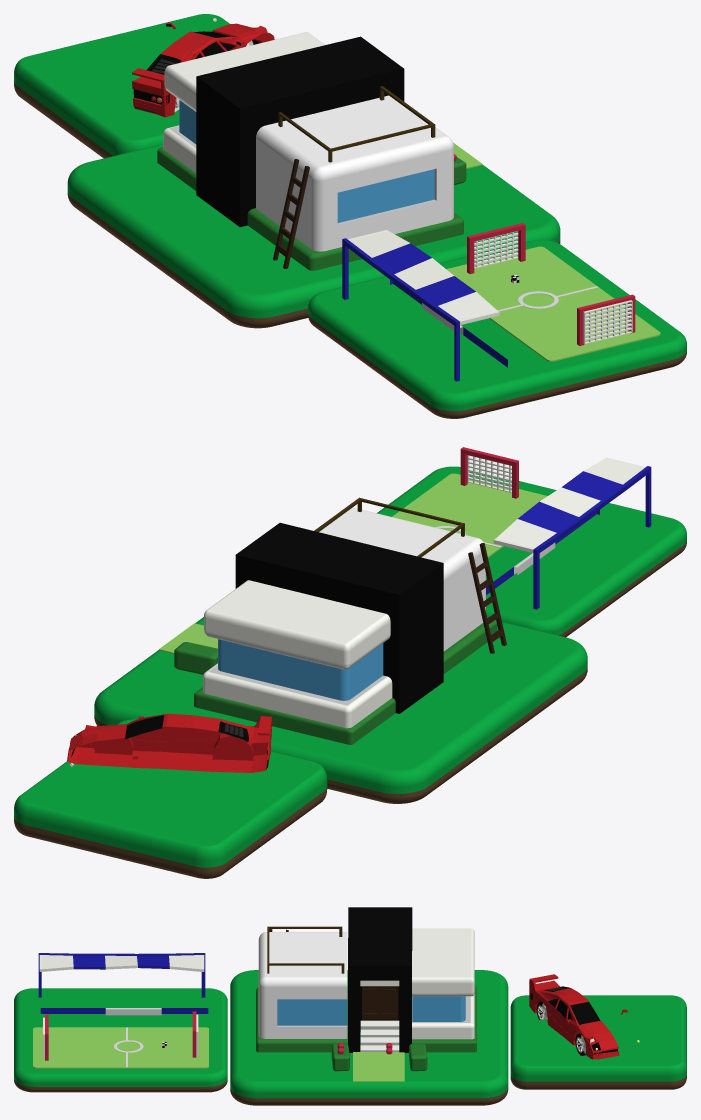
The model's file is islandAspan2.glb.
3 views of the same model, one above another, from view 1: azimuth 30°, elevation 25°; view 2: azimuth 150°, elevation 25°; view 3: azimuth 270°, elevation 25° (orthographic). The views are drawn at different scales.
Visible parts, largest first — view 1: Island.001, Island, Left2, Black main, Island.002, Football field.001, Tribuns.001, Right2, Car, Grassleft, Gates2.001, Gates.001 (+4 smaller); view 2: Island.001, Island.002, Black main, Island, Right2, Car, Left2, Tribuns.001, GlassRight, Football field.001, GrassRight, Gates2.001 (+6 smaller); view 3: Island.001, Island, Island.002, Left2, Black main, Football field.001, Right2, Car, Tribuns.001, Plane, GlassRight, Grassleft (+6 smaller).
Part boxes in pixels (x1,y1,x2,y2): Island.001: (67,144,560,328); Island: (308,240,686,418); Left2: (256,95,453,251); Black main: (196,36,404,227); Island.002: (14,14,230,158); Football field.001: (446,246,660,361); Tribuns.001: (342,230,499,381); Right2: (163,32,324,172); Car: (132,23,274,117); Grassleft: (247,208,463,270); Gates2.001: (577,294,635,345); Gates.001: (467,223,525,273); Island.001: (94,617,587,803); Island.002: (14,719,327,878); Black main: (235,522,443,713); Island: (377,466,686,637); Right2: (203,580,392,728); Car: (67,713,272,772); Left2: (319,507,485,651); Tribuns.001: (493,457,651,609); GlassRight: (218,639,383,700); Football field.001: (392,473,547,557); GrassRight: (194,687,395,744); Gates2.001: (460,447,518,498); Island.001: (230,970,508,1105); Island: (14,988,227,1092); Island.002: (510,995,686,1089); Left2: (258,932,347,1038); Black main: (348,907,412,1052); Football field.001: (33,1027,208,1068); Right2: (412,928,474,1039); Car: (529,974,619,1059); Tribuns.001: (38,953,205,997); Plane: (353,1045,404,1081); GlassRight: (412,996,465,1021); Grassleft: (256,987,347,1052).
Size of the model in its own units: 6 by 2.64 by 14.52.
